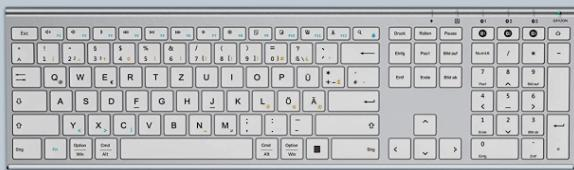0: (263, 41, 287, 63)
1: (36, 42, 58, 63)
2: (61, 42, 84, 63)
3: (86, 41, 109, 63)
4: (112, 41, 134, 63)
5: (137, 41, 159, 63)
6: (162, 41, 185, 63)
7: (187, 41, 211, 63)
8: (213, 41, 236, 63)
9: (238, 41, 261, 63)
a: (49, 89, 72, 111)
accent: (314, 42, 337, 63)
ae: (302, 89, 325, 111)
alt-left: (94, 136, 117, 159)
altgr-right: (254, 136, 278, 159)
b: (162, 112, 186, 134)
c: (112, 112, 135, 134)
caret: (10, 42, 33, 63)
comma: (238, 113, 261, 135)
d: (100, 88, 122, 111)
del: (340, 41, 379, 63)
e: (93, 65, 116, 87)
enter: (327, 89, 380, 111)
f: (125, 89, 148, 111)
g: (150, 89, 173, 110)
h: (176, 88, 198, 111)
hash: (347, 67, 380, 88)
i: (220, 65, 243, 86)
j: (201, 88, 223, 111)
k: (226, 89, 249, 111)
keyboard: (4, 5, 574, 170)
l: (251, 89, 274, 111)
m: (213, 112, 236, 134)
minus: (288, 113, 312, 135)
n: (187, 112, 211, 135)
o: (245, 65, 268, 87)
oe: (277, 89, 299, 111)
p: (271, 65, 293, 86)
plus: (321, 65, 343, 86)
point: (263, 113, 286, 134)
q: (42, 65, 66, 87)
r: (118, 65, 142, 87)
s: (74, 89, 97, 111)
shift-left: (11, 112, 58, 134)
shift-lock: (10, 89, 46, 111)
shift-right: (314, 112, 379, 135)
space: (121, 138, 253, 161)
ss: (289, 41, 312, 63)
strg-left: (10, 137, 41, 159)
strg-right: (329, 137, 381, 159)
t: (144, 65, 166, 87)
tab: (10, 65, 39, 87)
u: (194, 65, 218, 87)
ue: (296, 64, 319, 87)
v: (138, 112, 160, 134)
w: (68, 64, 91, 87)
x: (87, 112, 110, 134)
y: (61, 113, 85, 134)
z: (169, 65, 192, 87)
